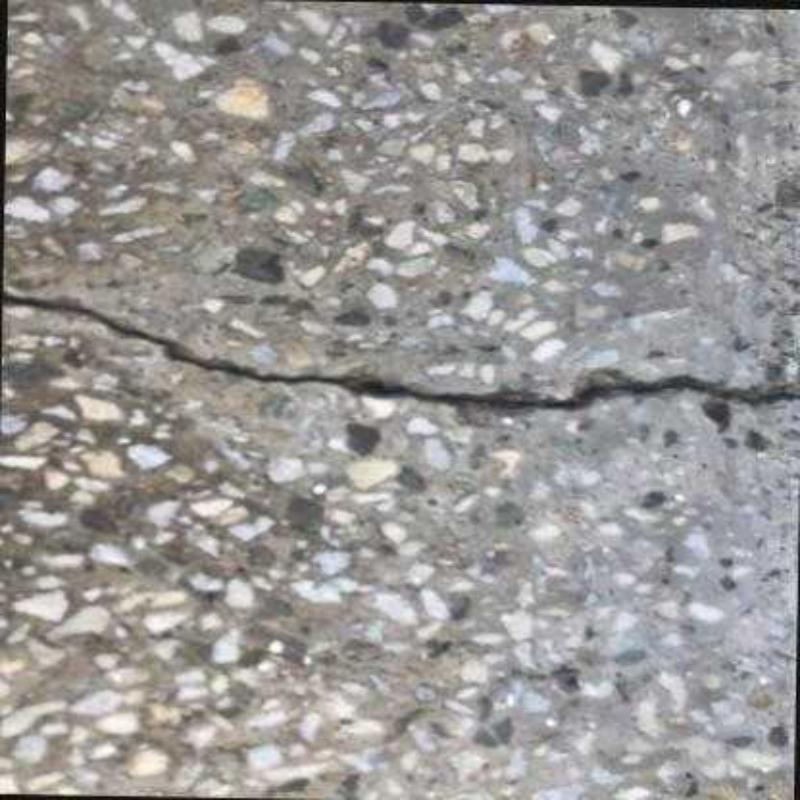pothole: (2, 292, 798, 408)
